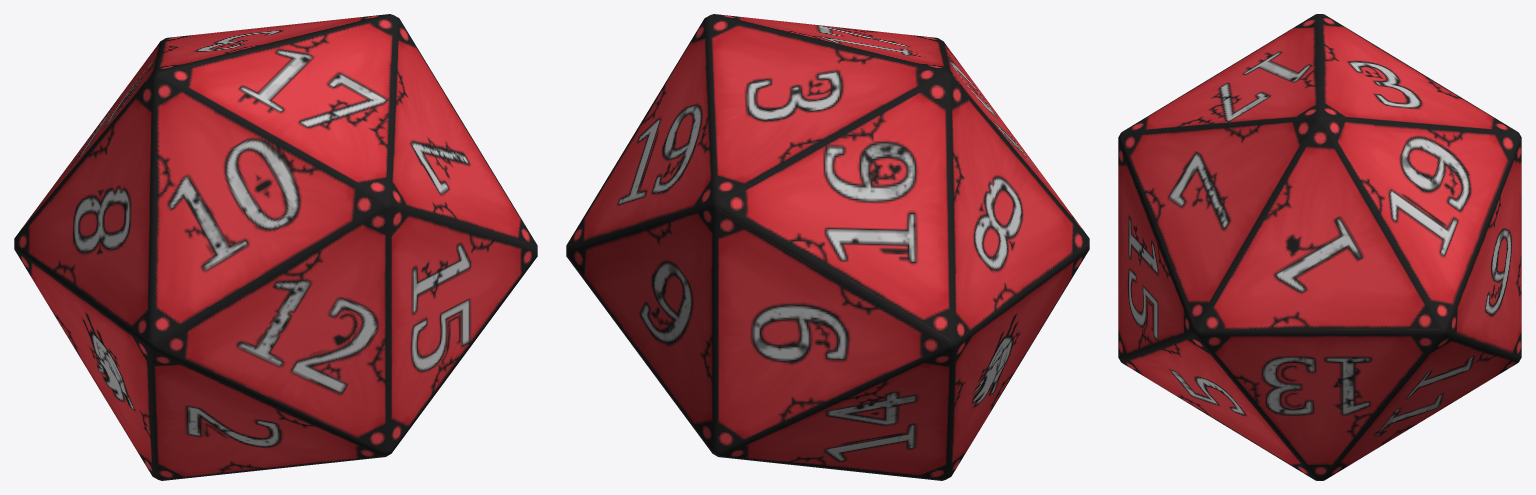
Rendered from d20-carrion.glb.
3 views of the same model, side by side, from view 1: azimuth 30°, elevation 25°; view 2: azimuth 150°, elevation 25°; view 3: azimuth 270°, elevation 25° (orthographic). The views are drawn at different scales.
Parts seen in each view (by area): view 1: Mesh_0; view 2: Mesh_0; view 3: Mesh_0.
Part boxes in pixels (x1=…): Mesh_0: x1=14, y1=14, x2=537, y2=480; Mesh_0: x1=566, y1=14, x2=1089, y2=480; Mesh_0: x1=1118, y1=14, x2=1521, y2=480.
Bounding box in the file's own units: 169 × 169 × 169.
Materials: 1 (1 with a texture image).
